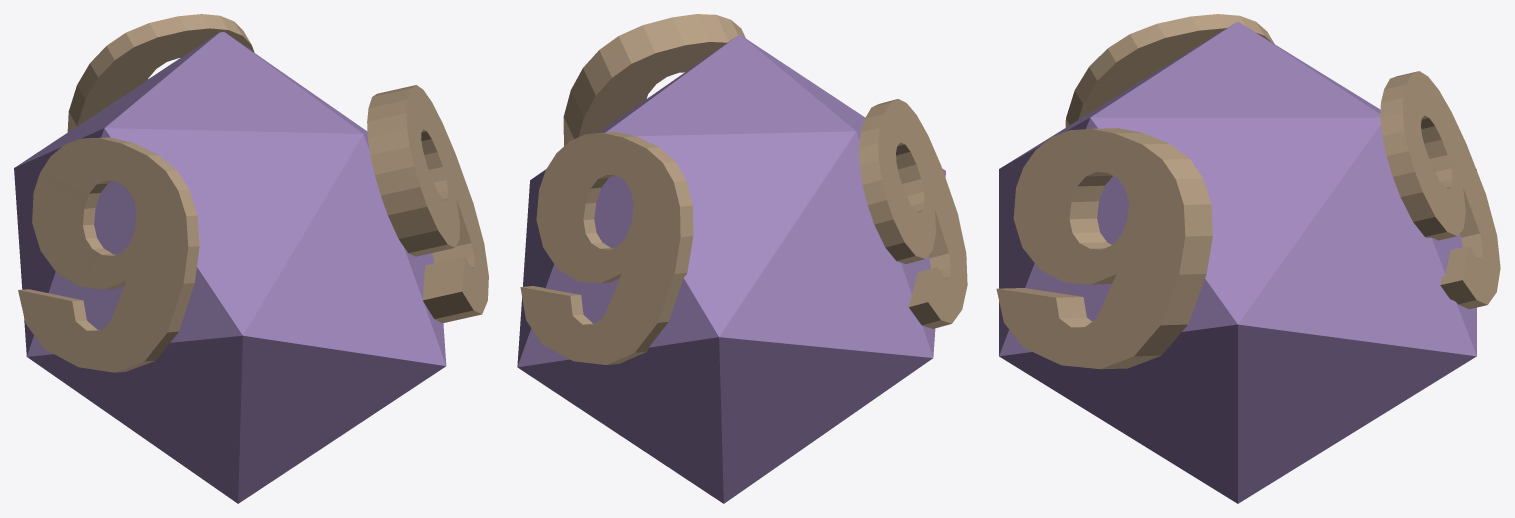
File: number9.glb
3 renders of one model, left to right at view 1: azimuth 30°, elevation 25°; view 2: azimuth 150°, elevation 25°; view 3: azimuth 270°, elevation 25°, orthographic. The views are drawn at different scales.
Visible parts, largest first — view 1: Mesh_Mesh_head_geo.001_lambert2SG.001; view 2: Mesh_Mesh_head_geo.001_lambert2SG.001; view 3: Mesh_Mesh_head_geo.001_lambert2SG.001.
Boxes of the visible parts, bbox=[...] form: Mesh_Mesh_head_geo.001_lambert2SG.001: bbox=[14, 14, 488, 503]; Mesh_Mesh_head_geo.001_lambert2SG.001: bbox=[517, 14, 967, 503]; Mesh_Mesh_head_geo.001_lambert2SG.001: bbox=[996, 14, 1500, 503].
Bounding box in the file's own units: 0.099 × 0.081 × 0.1.
